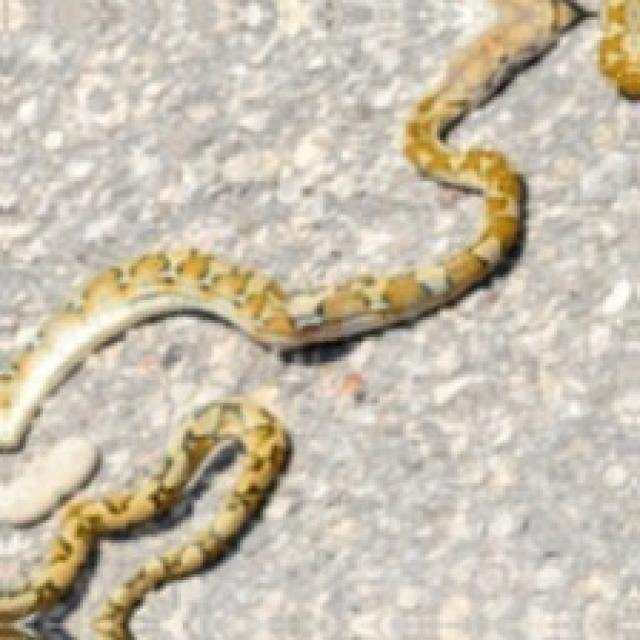reticulated python: (0, 0, 580, 449), (0, 398, 286, 640)
